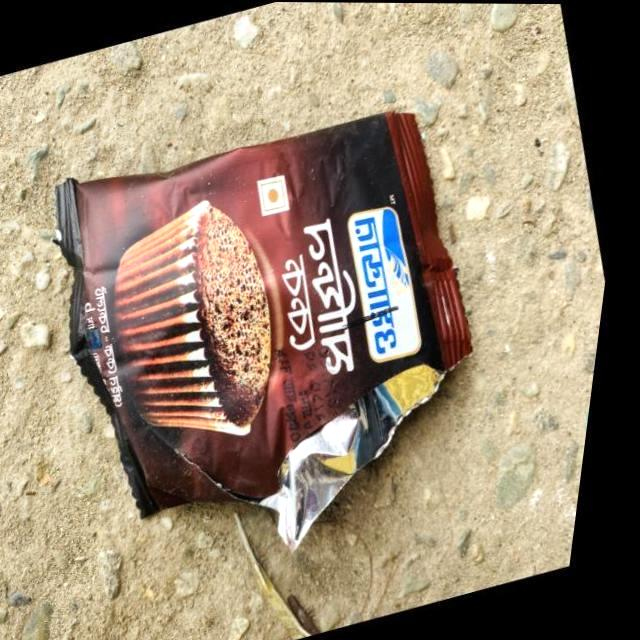packet: (98, 161, 435, 503)
